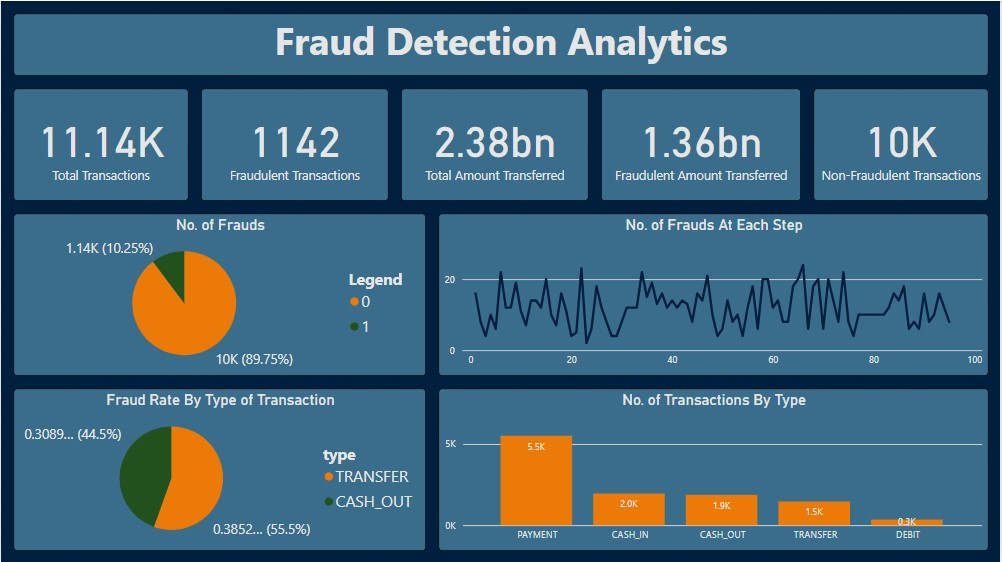

This screenshot's page, from the dashboard's own definition file:
{"tool":"powerbi","page":{"name":"Fraud Detection Analytics","canvas":[1280,720],"ordinal":0},"visuals":[{"type":"card","fields":{"Values":["CountNonNull(Fraud_Analysis_Dataset.amount)"]},"box":[16,112,224,144],"z":0},{"type":"pieChart","title":"No. of Frauds","fields":{"Category":["Fraud_Analysis_Dataset.isFraud"],"Y":["CountNonNull(Fraud_Analysis_Dataset.isFraud)"]},"box":[16,272,528,208],"z":1000},{"type":"columnChart","title":"No. of Transactions By Type","fields":{"Category":["Fraud_Analysis_Dataset.type"],"Y":["CountNonNull(Fraud_Analysis_Dataset.type)"]},"box":[560,496,704,208],"z":2000},{"type":"card","fields":{"Values":["Fraud_Analysis_Dataset.Fraudulent Transactions"]},"box":[256,112,240,144],"z":3000},{"type":"card","fields":{"Values":["Fraud_Analysis_Dataset.Total Amount Transferred"]},"box":[512,112,240,144],"z":4000},{"type":"card","fields":{"Values":["Fraud_Analysis_Dataset.Fraudulent Amount Transferred"]},"box":[768,112,256,144],"z":5000},{"type":"pieChart","title":"Fraud Rate By Type of Transaction","fields":{"Category":["Fraud_Analysis_Dataset.type"],"Y":["Fraud_Analysis_Dataset.Fraud Rate by Type"]},"box":[16,496,528,208],"z":6000},{"type":"card","fields":{"Values":["Fraud_Analysis_Dataset.Non-Fraudulent Transactions"]},"box":[1040,112,224,144],"z":7000},{"type":"lineChart","title":"No. of Frauds At Each Step","fields":{"Category":["Fraud_Analysis_Dataset.step"],"Y":["Fraud_Analysis_Dataset.Fraud Over Time"]},"box":[560,272,704,208],"z":8000},{"type":"textbox","box":[16,16,1248,80],"z":9000}]}

Visuals, with their boxes in screenshot pixels (x1, y1, x2, y2), scaled from the page's 1280x720 canvas onto the 1002x562 screenshot:
card - CountNonNull(Fraud_Analysis_Dataset.amount): <region>13, 87, 188, 200</region>
"No. of Frauds" pieChart: <region>13, 212, 426, 375</region>
"No. of Transactions By Type" columnChart: <region>438, 387, 989, 550</region>
card - Fraud_Analysis_Dataset.Fraudulent Transactions: <region>200, 87, 388, 200</region>
card - Fraud_Analysis_Dataset.Total Amount Transferred: <region>401, 87, 589, 200</region>
card - Fraud_Analysis_Dataset.Fraudulent Amount Transferred: <region>601, 87, 802, 200</region>
"Fraud Rate By Type of Transaction" pieChart: <region>13, 387, 426, 550</region>
card - Fraud_Analysis_Dataset.Non-Fraudulent Transactions: <region>814, 87, 989, 200</region>
"No. of Frauds At Each Step" lineChart: <region>438, 212, 989, 375</region>
textbox: <region>13, 12, 989, 75</region>
